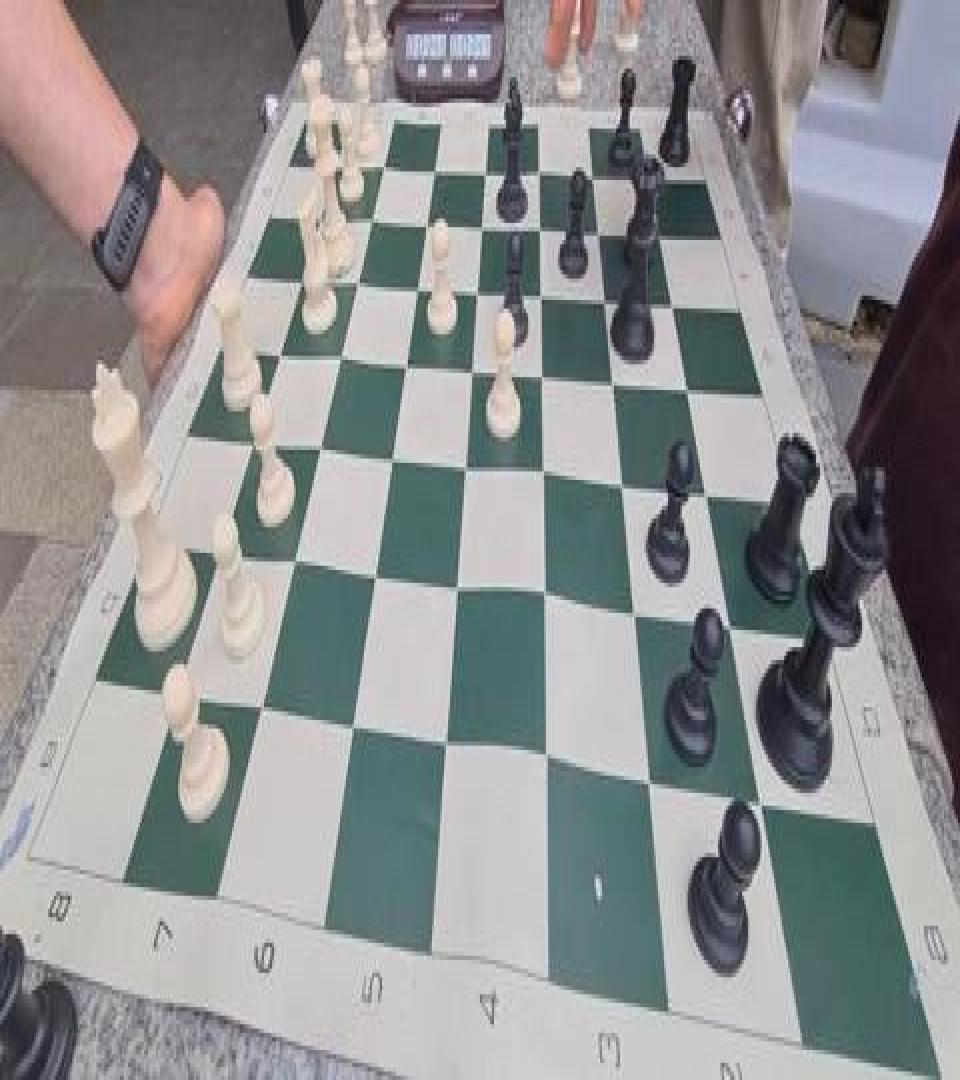xcorner: (394, 338, 414, 382), (309, 426, 329, 470), (528, 199, 548, 242), (471, 199, 491, 242), (416, 197, 436, 240), (362, 197, 382, 240), (310, 195, 330, 238), (660, 272, 680, 315), (593, 270, 613, 313), (466, 264, 486, 307), (348, 259, 368, 302), (292, 257, 312, 300), (674, 356, 694, 399), (600, 352, 620, 395), (528, 347, 548, 390), (460, 343, 480, 386), (330, 334, 350, 377), (269, 332, 289, 375), (692, 463, 712, 506), (609, 454, 629, 497), (529, 448, 549, 491), (452, 439, 472, 482), (379, 433, 399, 476), (242, 422, 262, 465), (620, 585, 640, 628), (529, 572, 549, 615), (361, 553, 381, 596), (282, 542, 302, 585), (208, 533, 228, 576), (635, 754, 655, 797), (530, 737, 550, 780), (431, 720, 451, 763), (337, 703, 357, 746), (248, 688, 268, 731), (164, 675, 184, 718), (638, 144, 658, 186), (582, 144, 602, 186), (528, 144, 548, 186), (475, 144, 495, 186), (424, 144, 444, 186), (375, 144, 395, 186), (327, 144, 347, 186), (648, 202, 668, 244), (587, 202, 607, 244), (528, 266, 548, 308), (406, 262, 426, 304), (715, 596, 735, 638), (443, 562, 463, 604), (746, 774, 766, 816)
